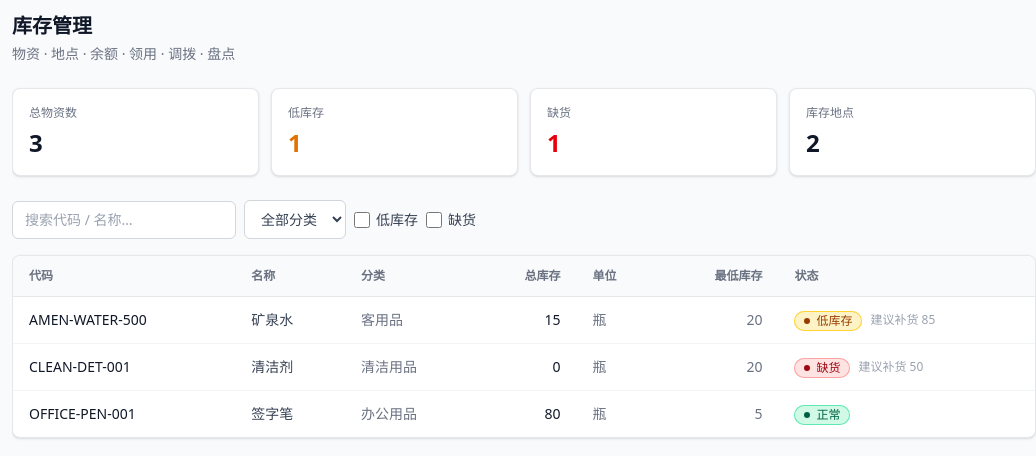
Test: 库存工作台（Sprint 7 §40） › 搜索过滤：按 code/名称过滤
Expected: the text "矿泉水" is shown, [235,296,345,344]
Type "清洁" into the field named "搜索物资" at (124, 220), box [12,200,236,238]
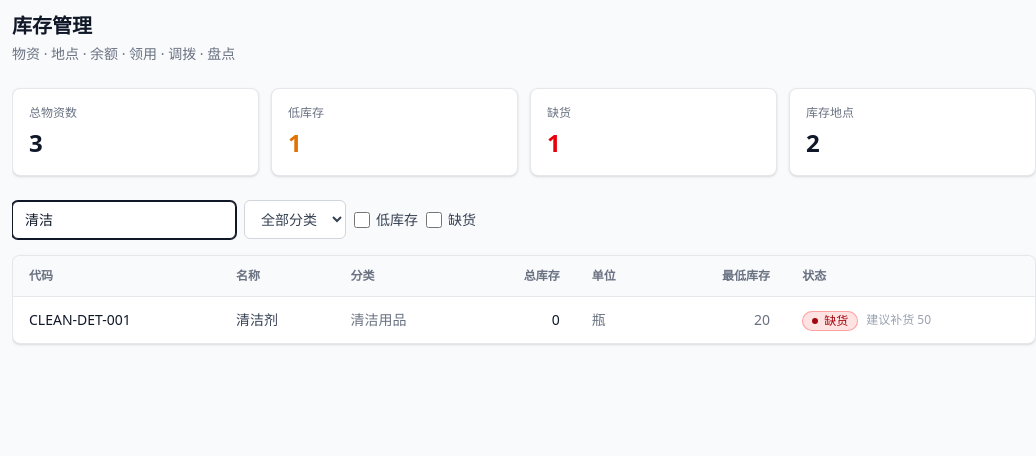
Expected: the text "清洁剂" is shown, [220,296,334,343]
Expected: the text "矿泉水" is gone
